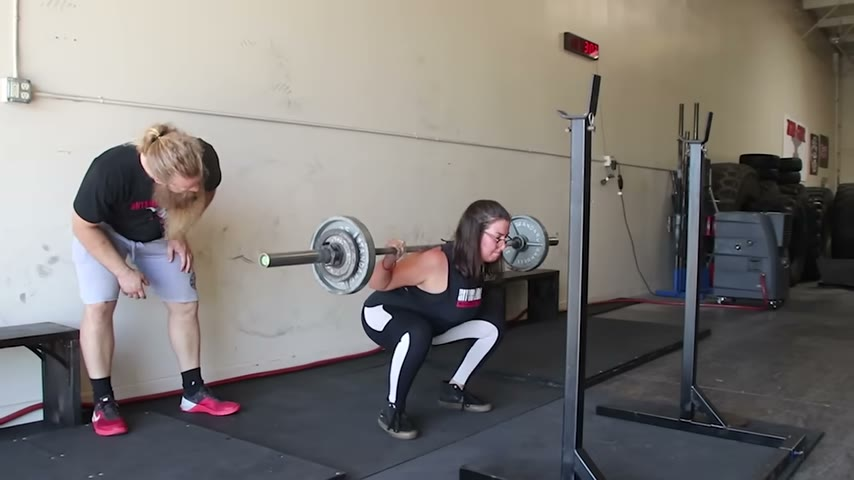barbell_plate_side: (257, 205, 351, 300), (498, 206, 563, 279)
